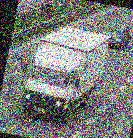car: (100, 21, 132, 51)
